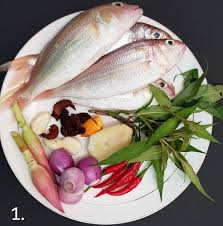Ikan Kerisi: (44, 36, 196, 99), (12, 2, 153, 45)
